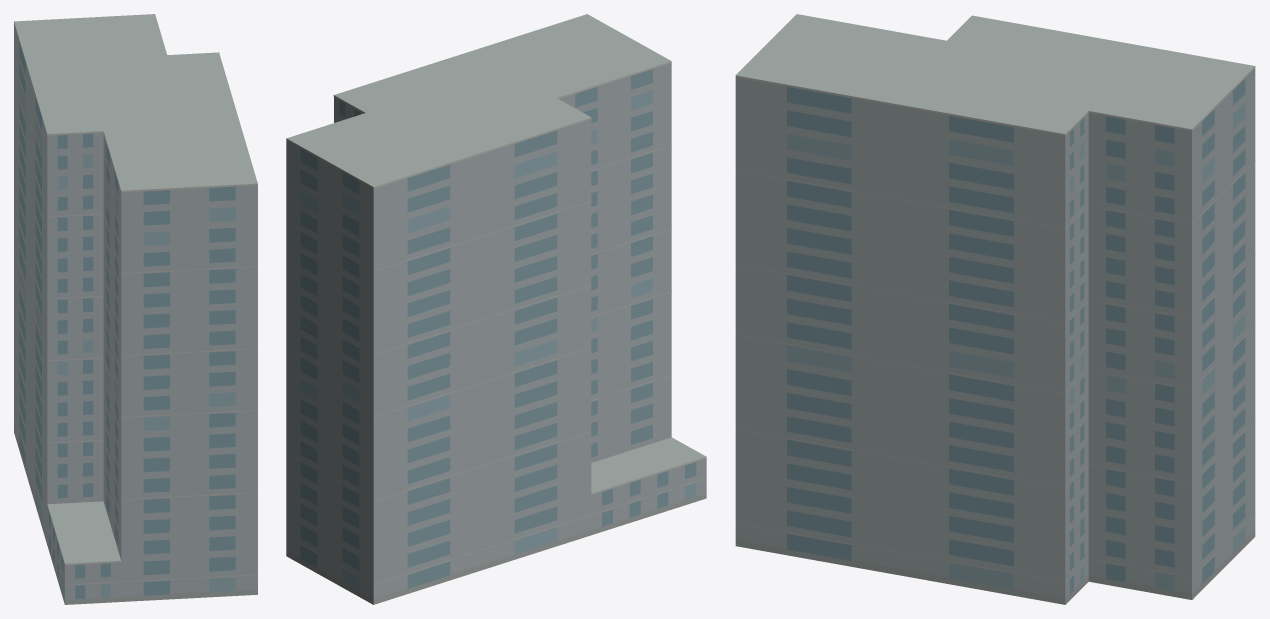
File: residential-2c93764c-5882-45d2-b89b-e5bc23da99b8.glb
3 renders of one model, left to right at view 1: azimuth 30°, elevation 25°; view 2: azimuth 150°, elevation 25°; view 3: azimuth 270°, elevation 25°, orthographic. The views are drawn at different scales.
Parts seen in each view (by area): view 1: residential-2c93764c-5882-45d2-b89b-e5bc23da99b8.tmp; view 2: residential-2c93764c-5882-45d2-b89b-e5bc23da99b8.tmp; view 3: residential-2c93764c-5882-45d2-b89b-e5bc23da99b8.tmp.
Part boxes in pixels (x1=…): residential-2c93764c-5882-45d2-b89b-e5bc23da99b8.tmp: x1=14, y1=14, x2=257, y2=604; residential-2c93764c-5882-45d2-b89b-e5bc23da99b8.tmp: x1=286, y1=14, x2=706, y2=604; residential-2c93764c-5882-45d2-b89b-e5bc23da99b8.tmp: x1=735, y1=14, x2=1255, y2=604.
Bounding box in the file's own units: 40.47 × 61 × 61.08.
